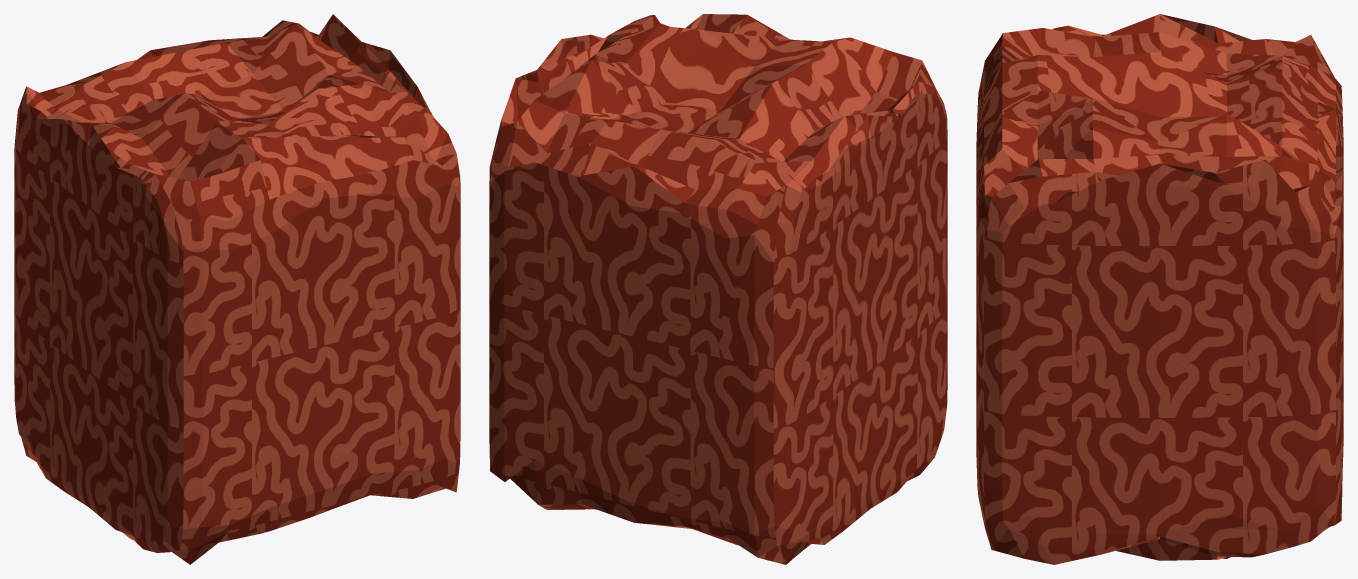
Rendered from bigmeatblock.fbx.
3 views of the same model, side by side, from view 1: azimuth 30°, elevation 25°; view 2: azimuth 150°, elevation 25°; view 3: azimuth 270°, elevation 25° (orthographic). The views are drawn at different scales.
Parts seen in each view (by area): view 1: Meat_block.003; view 2: Meat_block.003; view 3: Meat_block.003.
Part boxes in pixels (left/top/right/bottom): Meat_block.003: left=14, top=14, right=460, bottom=564; Meat_block.003: left=489, top=14, right=947, bottom=564; Meat_block.003: left=976, top=14, right=1343, bottom=564.
Bounding box in the file's own units: 199 × 259 × 200.
1 material, 1 textured.
